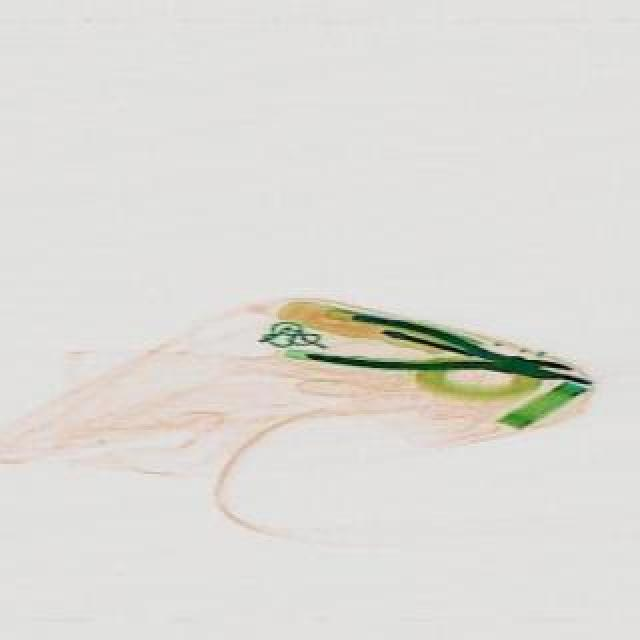wrench: (300, 304, 572, 400)
